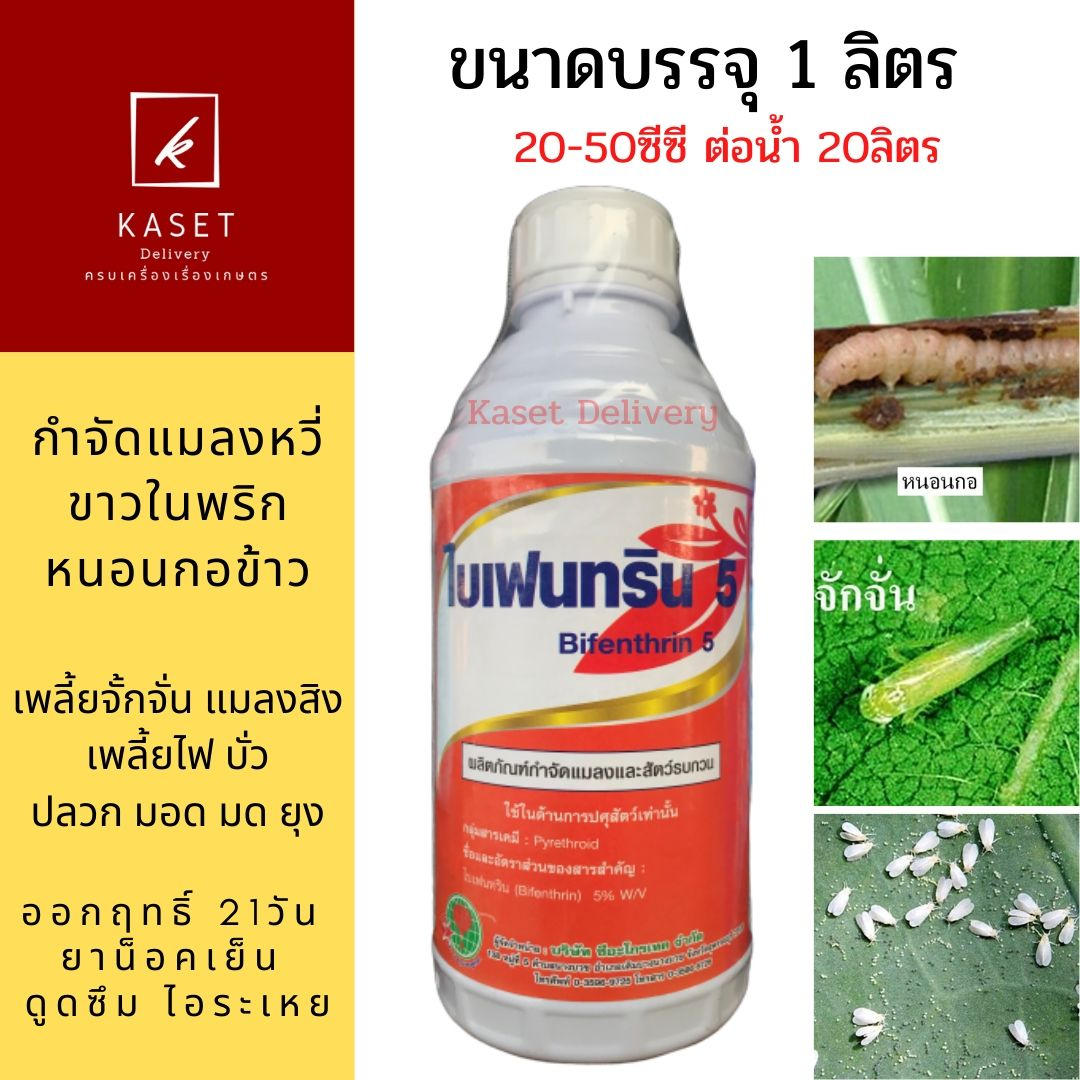Insecticide: (421, 178, 761, 1072)
